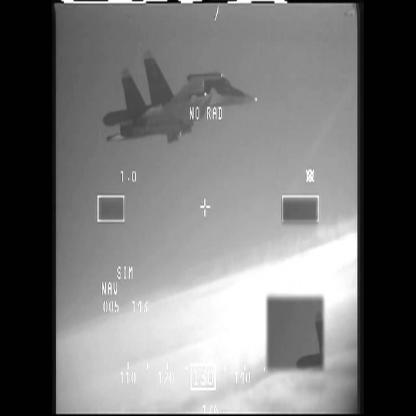Su34: (103, 50, 258, 146)
